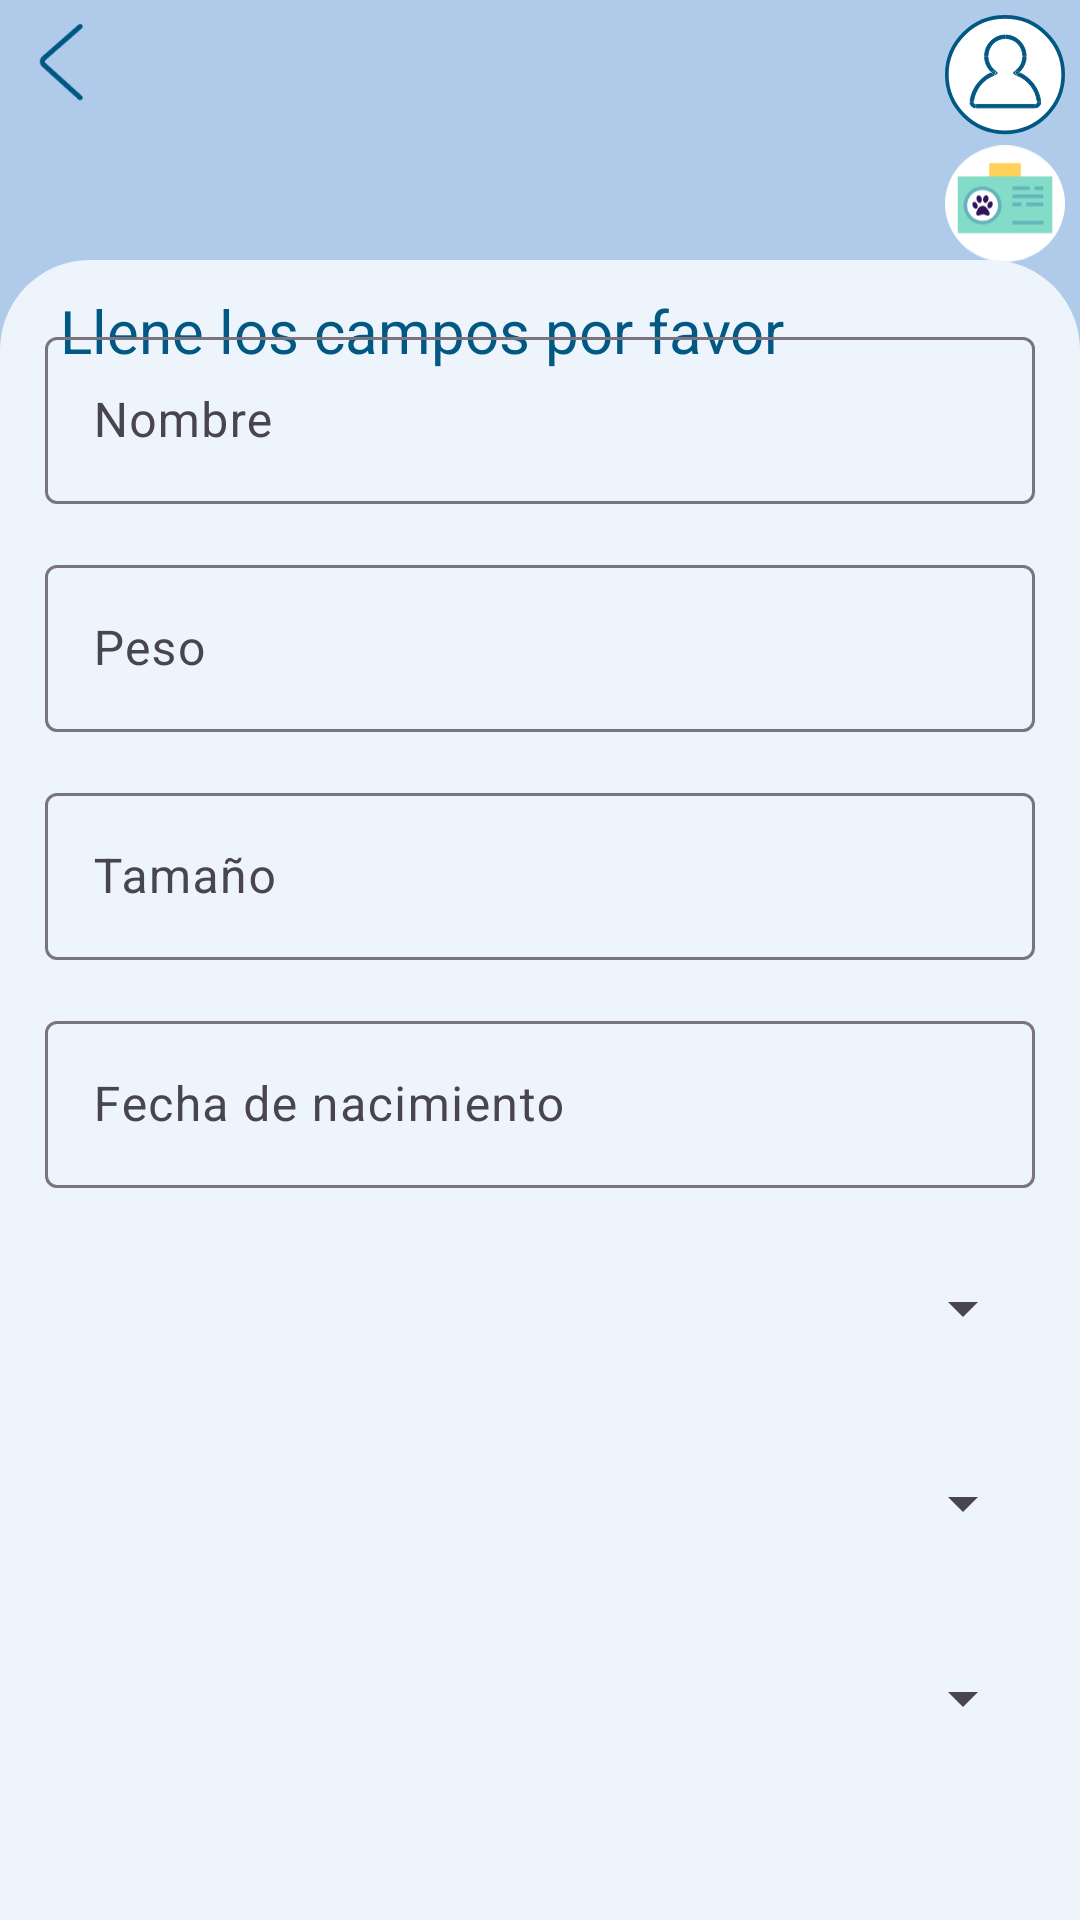

Icons on this 1080px×1920px Android screen, each with the point to tap as (x,y):
Botón de atrás: (61,62)
Ícono de carnet: (1005,204)
